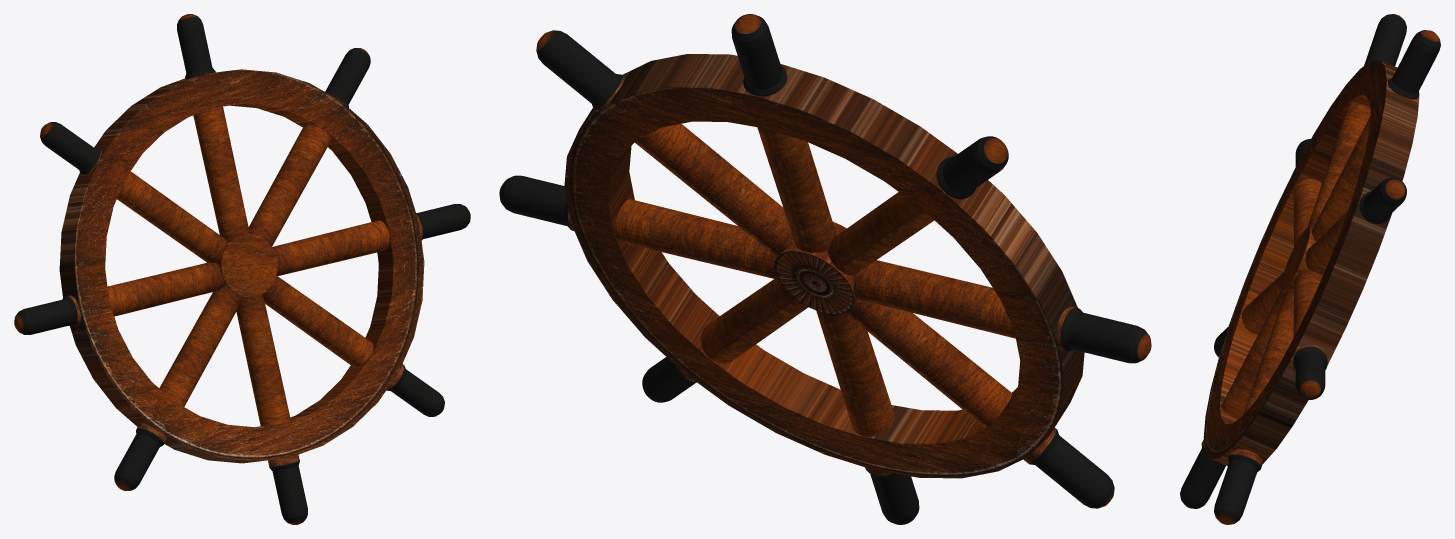
Rendered from VolanteBarco.fbx.
3 renders of one model, left to right at view 1: azimuth 30°, elevation 25°; view 2: azimuth 150°, elevation 25°; view 3: azimuth 270°, elevation 25°, orthographic. The views are drawn at different scales.
Parts seen in each view (by area): view 1: Timón; view 2: Timón; view 3: Timón.
Boxes of the visible parts, bbox=[...] form: Timón: bbox=[14, 14, 470, 524]; Timón: bbox=[499, 14, 1151, 524]; Timón: bbox=[1180, 14, 1440, 524].
Bounding box in the file's own units: 19.98 × 18.21 × 9.04.
1 material, 1 textured.
